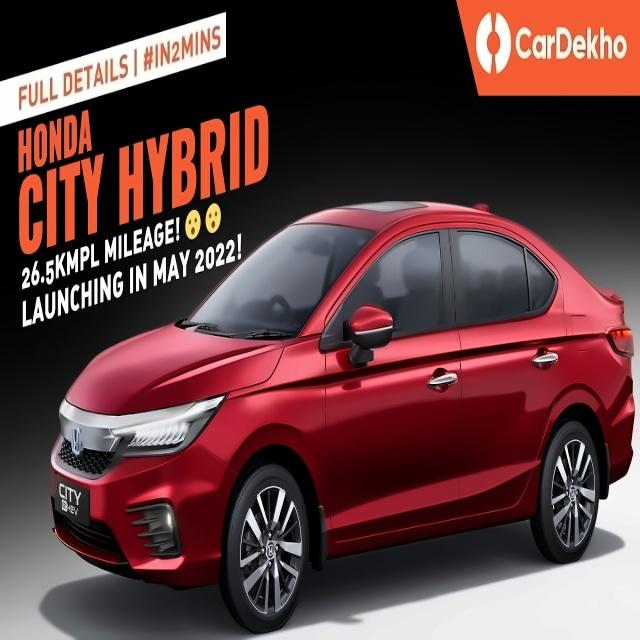Car hood: (61, 314, 288, 419)
Fender - -F-L-: (199, 313, 327, 566)
Fender - -R-L-: (534, 310, 623, 504)
Front bumper: (34, 453, 235, 596)
Headlight - -L-: (105, 388, 232, 460)
Passenger-s door - -F-L-: (330, 211, 461, 544)
Passenger-s door - -R-L-: (459, 218, 573, 523)
Rear bumper: (589, 410, 638, 496)
Rear light - -L-: (595, 314, 638, 367)
Side bumper - -L-: (314, 496, 548, 569)
Side mirror - -L-: (331, 293, 408, 369)
